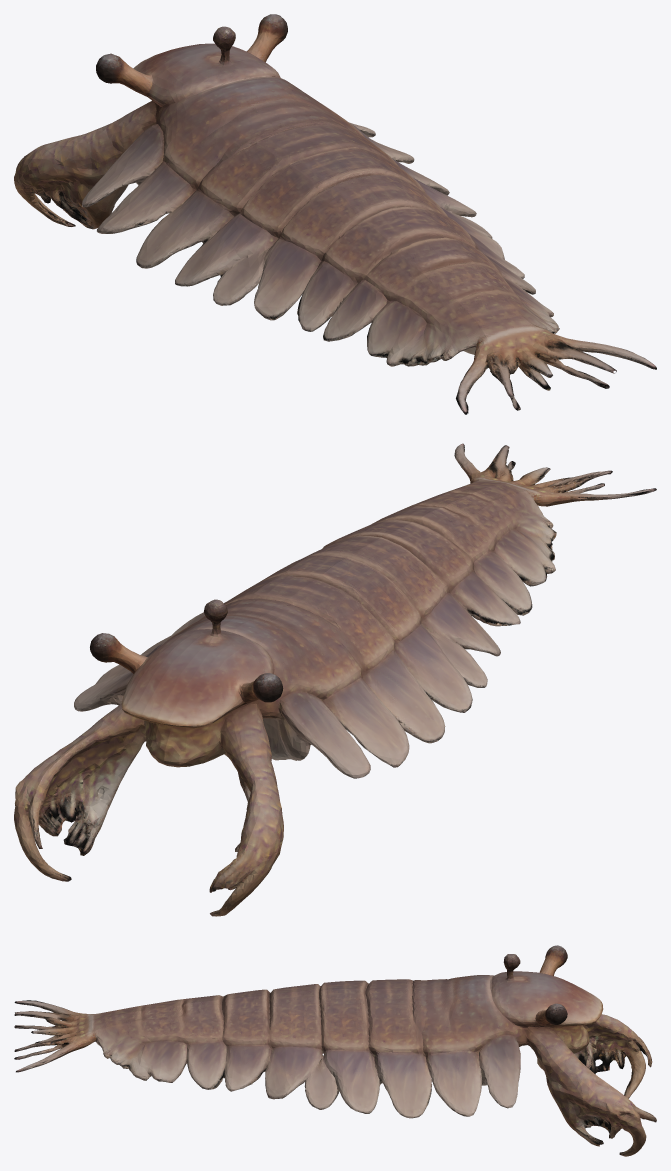
3 renders of one model, top to bottom at view 1: azimuth 30°, elevation 25°; view 2: azimuth 150°, elevation 25°; view 3: azimuth 270°, elevation 25°, orthographic. The views are drawn at different scales.
Parts seen in each view (by area): view 1: world; view 2: world; view 3: world.
Part boxes in pixels (<box>): world: <box>14,14,656,414</box>; world: <box>14,443,656,916</box>; world: <box>14,945,656,1156</box>.
Size of the model in its own units: 0.3992 by 0.2969 by 0.9846.
1 material, 1 textured.
